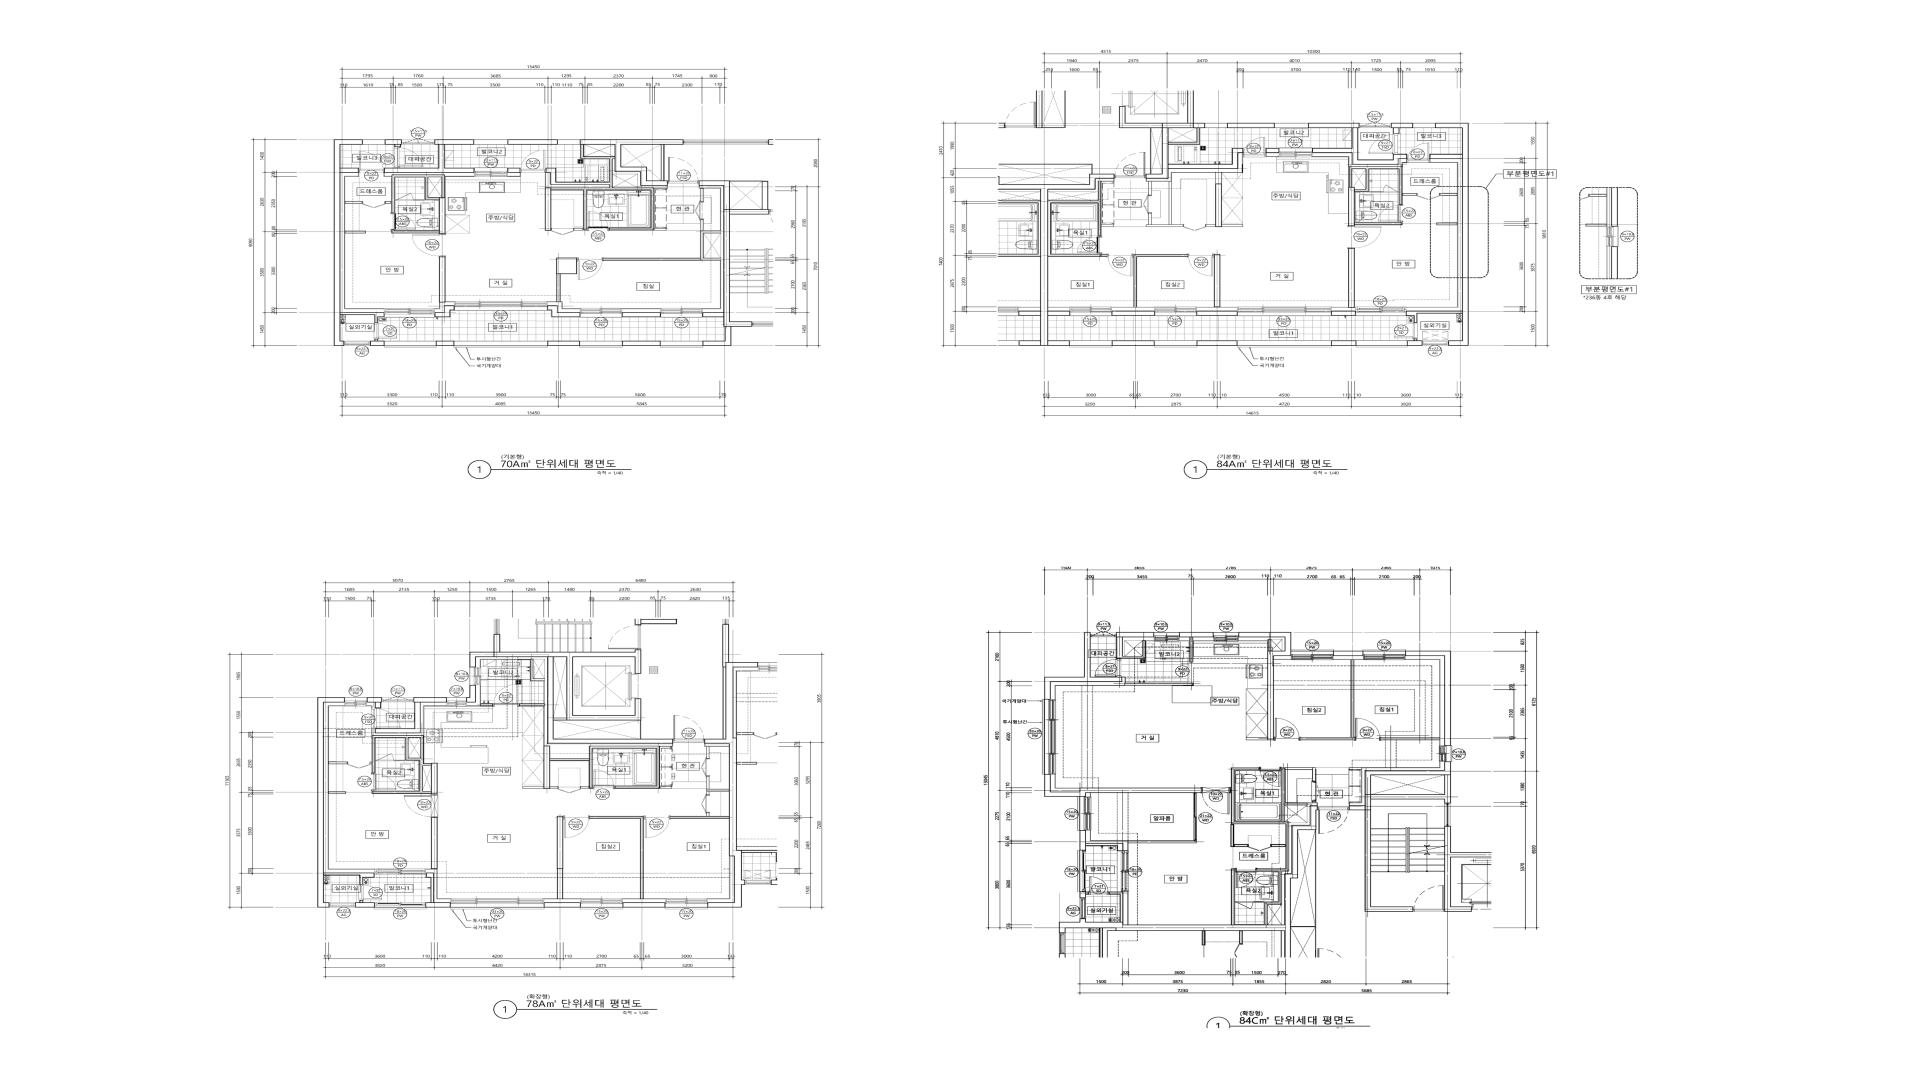door: (1317, 806, 1349, 834), (1114, 152, 1146, 178), (667, 157, 699, 183), (608, 625, 641, 650), (673, 715, 704, 741), (1413, 886, 1444, 912), (404, 794, 438, 817), (1201, 788, 1231, 814), (412, 234, 445, 257), (1348, 226, 1381, 248), (371, 708, 400, 729), (394, 147, 423, 168), (1369, 134, 1399, 154), (643, 816, 670, 838), (1107, 254, 1134, 276), (493, 684, 519, 706), (563, 816, 589, 838), (1274, 718, 1300, 740), (1355, 718, 1381, 740), (1188, 254, 1214, 276), (577, 258, 603, 280), (520, 150, 546, 172), (358, 151, 384, 172), (1095, 659, 1121, 677), (1407, 143, 1430, 163), (1243, 137, 1266, 157), (592, 770, 615, 789), (372, 773, 396, 791), (1077, 236, 1101, 254), (1260, 768, 1282, 787), (1235, 869, 1257, 888), (587, 211, 609, 230), (1379, 205, 1402, 223), (392, 213, 415, 230), (1088, 877, 1109, 895), (1395, 323, 1418, 339), (374, 323, 397, 339), (359, 885, 382, 900), (1193, 793, 1197, 841), (695, 201, 704, 221), (1312, 781, 1320, 803), (1143, 195, 1152, 213), (1248, 844, 1271, 851), (1417, 193, 1440, 200), (551, 228, 574, 235), (362, 201, 385, 208), (1090, 631, 1116, 637), (558, 786, 580, 793), (701, 795, 709, 813), (701, 758, 709, 776), (395, 193, 413, 201), (347, 762, 370, 768), (1183, 225, 1206, 231), (376, 754, 394, 761), (1235, 902, 1253, 909), (1383, 185, 1399, 192)
wall: (1059, 805, 1317, 958), (470, 634, 673, 744), (670, 624, 742, 908), (476, 657, 673, 758), (1349, 762, 1451, 912), (1406, 123, 1469, 346), (1231, 767, 1317, 925), (1040, 174, 1114, 346), (317, 697, 375, 908), (699, 181, 769, 346), (334, 140, 384, 346), (545, 145, 654, 231), (1119, 106, 1243, 179), (324, 702, 374, 873), (1406, 159, 1462, 311), (1146, 153, 1243, 227), (340, 173, 384, 313), (1239, 632, 1291, 740), (1044, 632, 1125, 699), (543, 746, 660, 789), (603, 220, 720, 261), (580, 140, 683, 186), (589, 816, 643, 899), (1300, 660, 1355, 740), (1406, 651, 1451, 746), (1308, 123, 1407, 165), (1444, 826, 1492, 912), (372, 735, 437, 794), (1044, 775, 1201, 797), (1348, 167, 1403, 226), (384, 139, 474, 173), (699, 186, 723, 312), (1134, 254, 1188, 307), (375, 697, 447, 733), (371, 702, 447, 735), (1291, 830, 1316, 927), (391, 175, 445, 213), (613, 159, 667, 188), (1371, 775, 1444, 795), (1312, 153, 1407, 167), (708, 856, 734, 903), (1116, 632, 1154, 659), (1080, 831, 1128, 851), (426, 873, 451, 908), (1048, 179, 1114, 192), (426, 869, 451, 903), (1123, 637, 1154, 656), (557, 816, 563, 899), (706, 776, 729, 795), (1109, 892, 1123, 922), (1348, 248, 1355, 308), (1168, 128, 1197, 142), (1231, 824, 1248, 847), (431, 817, 438, 869), (547, 306, 580, 317), (384, 173, 474, 177), (704, 744, 729, 758), (556, 258, 577, 274), (530, 659, 545, 681), (547, 302, 580, 312), (1214, 254, 1220, 307), (1179, 632, 1214, 641), (466, 685, 481, 706), (507, 139, 558, 145), (1215, 184, 1222, 227), (1352, 169, 1366, 189), (439, 257, 445, 303), (1334, 651, 1363, 660), (635, 619, 677, 625), (1391, 123, 1413, 134), (408, 738, 420, 758), (1227, 123, 1275, 128), (1268, 637, 1285, 651), (1231, 869, 1235, 925), (439, 197, 445, 234), (1112, 311, 1155, 316), (623, 903, 665, 908), (1112, 341, 1154, 346), (435, 306, 454, 317), (1128, 840, 1197, 843), (1197, 311, 1238, 316), (1197, 341, 1237, 346), (622, 312, 661, 317), (622, 341, 660, 346), (435, 302, 454, 312), (544, 903, 580, 908), (466, 685, 476, 703), (1381, 737, 1440, 740), (1112, 307, 1155, 311), (623, 899, 665, 903), (367, 697, 382, 708), (1197, 307, 1238, 311), (548, 341, 580, 346), (622, 308, 661, 312), (355, 900, 374, 908), (544, 899, 580, 903), (392, 230, 439, 233), (1125, 683, 1193, 685), (1331, 311, 1356, 316), (1332, 341, 1356, 346), (385, 140, 402, 147), (556, 274, 560, 302), (1407, 339, 1423, 346), (508, 168, 520, 177), (661, 145, 664, 181), (1331, 307, 1356, 311), (370, 339, 384, 346), (436, 341, 454, 346), (1048, 307, 1070, 311), (1190, 637, 1193, 662), (1266, 148, 1279, 153), (522, 786, 543, 789), (1222, 224, 1243, 227), (1246, 737, 1267, 740), (700, 188, 704, 202), (519, 704, 545, 706), (1266, 153, 1279, 157), (345, 201, 362, 204), (1150, 128, 1151, 174), (345, 231, 366, 233), (367, 703, 375, 708), (1080, 892, 1086, 898), (1349, 767, 1361, 770), (660, 786, 671, 789), (574, 228, 584, 231), (1403, 194, 1417, 196), (580, 786, 589, 789), (480, 704, 493, 706), (1101, 225, 1114, 227), (553, 718, 566, 720), (550, 786, 558, 789), (654, 228, 666, 230), (385, 201, 392, 204), (640, 721, 641, 739), (1206, 225, 1215, 227), (1370, 191, 1383, 192), (1253, 902, 1265, 903), (394, 760, 405, 761), (413, 200, 424, 201), (706, 813, 709, 816), (1086, 892, 1088, 894), (370, 762, 372, 764), (730, 181, 762, 181)
window: (1042, 699, 1056, 775), (450, 899, 544, 909), (454, 301, 547, 311), (1237, 307, 1331, 316), (454, 341, 548, 348), (1237, 341, 1332, 347), (1077, 797, 1091, 831), (1363, 649, 1406, 660), (1291, 649, 1334, 660), (374, 869, 426, 878), (384, 308, 435, 317), (1356, 307, 1406, 316), (580, 899, 623, 909), (665, 899, 708, 909), (1077, 850, 1086, 892), (1070, 307, 1112, 316), (1155, 307, 1197, 316), (580, 308, 622, 317), (661, 308, 702, 317), (384, 341, 436, 348), (1121, 851, 1129, 892), (374, 903, 426, 909), (1279, 148, 1313, 157), (474, 168, 508, 177), (1356, 341, 1407, 347), (660, 341, 703, 348), (580, 341, 622, 348), (1069, 341, 1112, 347), (1154, 341, 1197, 347), (1154, 632, 1179, 641), (1214, 632, 1239, 641), (382, 696, 413, 703), (1439, 746, 1452, 762), (474, 139, 508, 145), (470, 667, 481, 685), (345, 697, 367, 706), (1359, 122, 1391, 128), (402, 138, 434, 144), (447, 697, 466, 706), (1275, 123, 1308, 128), (1445, 803, 1451, 826), (558, 139, 580, 145), (344, 341, 370, 346), (329, 903, 355, 908), (1080, 898, 1086, 919), (1205, 123, 1227, 128), (1413, 123, 1435, 128), (363, 140, 385, 145), (1423, 341, 1448, 345)
